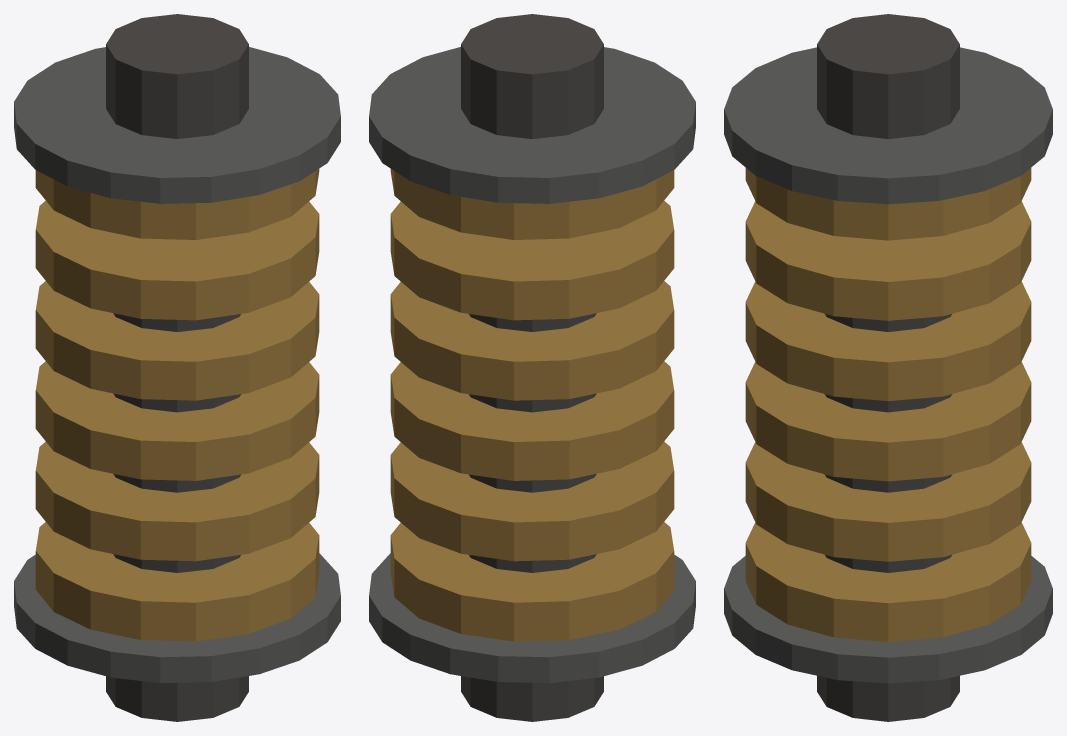
File: coilover.glb
3 views of the same model, side by side, from view 1: azimuth 30°, elevation 25°; view 2: azimuth 150°, elevation 25°; view 3: azimuth 270°, elevation 25° (orthographic).
Parts seen in each view (by area): view 1: coilover; view 2: coilover; view 3: coilover.
Boxes of the visible parts, <box> form: coilover: <box>14,14,340,721</box>; coilover: <box>369,14,695,721</box>; coilover: <box>724,14,1052,721</box>.
Bounding box in the file's own units: 0.46 × 1 × 0.46.
